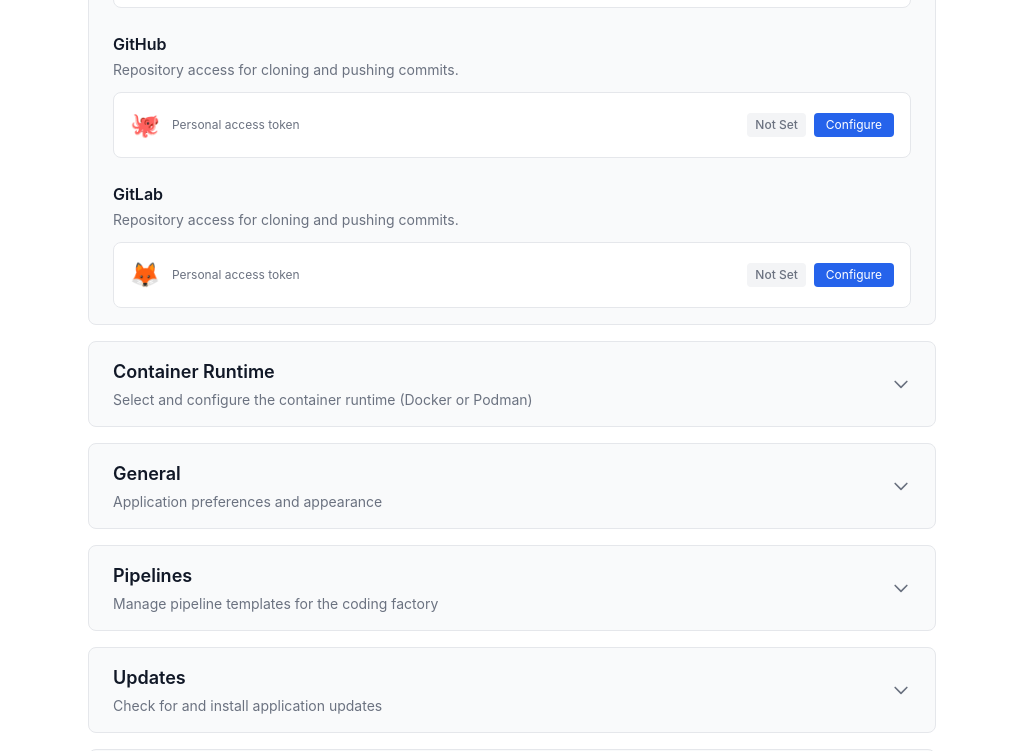
SettingsTab › Section Collapsing › should expand a section when clicked
(page scrolled)
Expected: the text "Connection Status" is not shown
Click the button "Container Runtime".
click(194, 372)  # box x1=89 y1=342 x2=935 y2=426
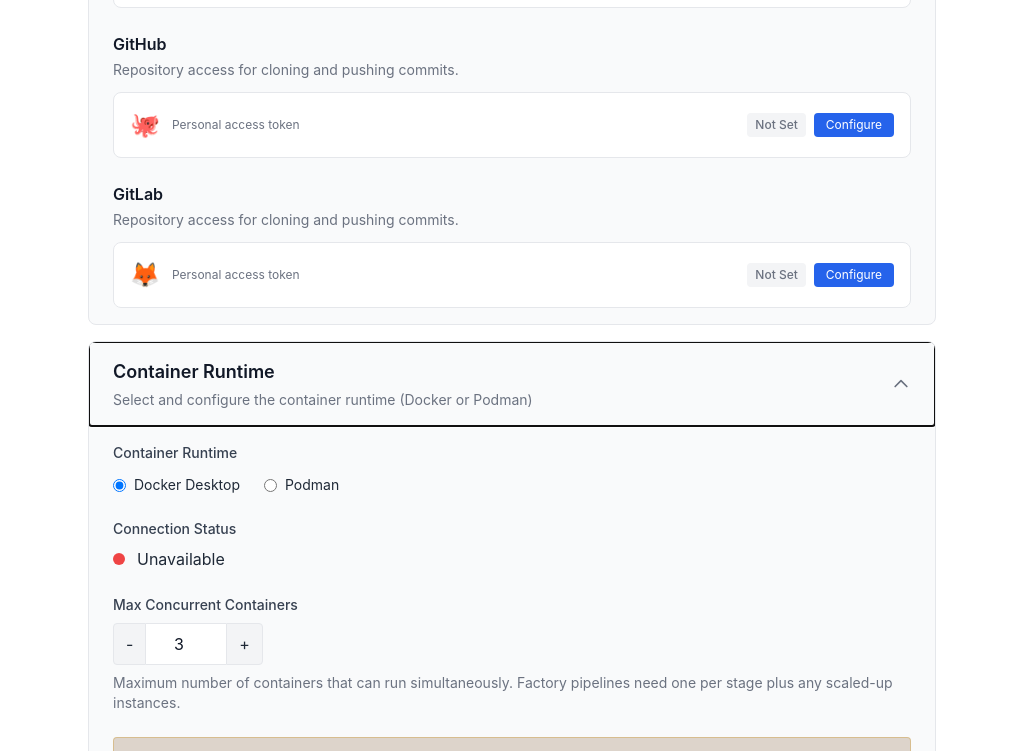
Result: the text "Connection Status" is shown at x1=113 y1=520 x2=236 y2=537
